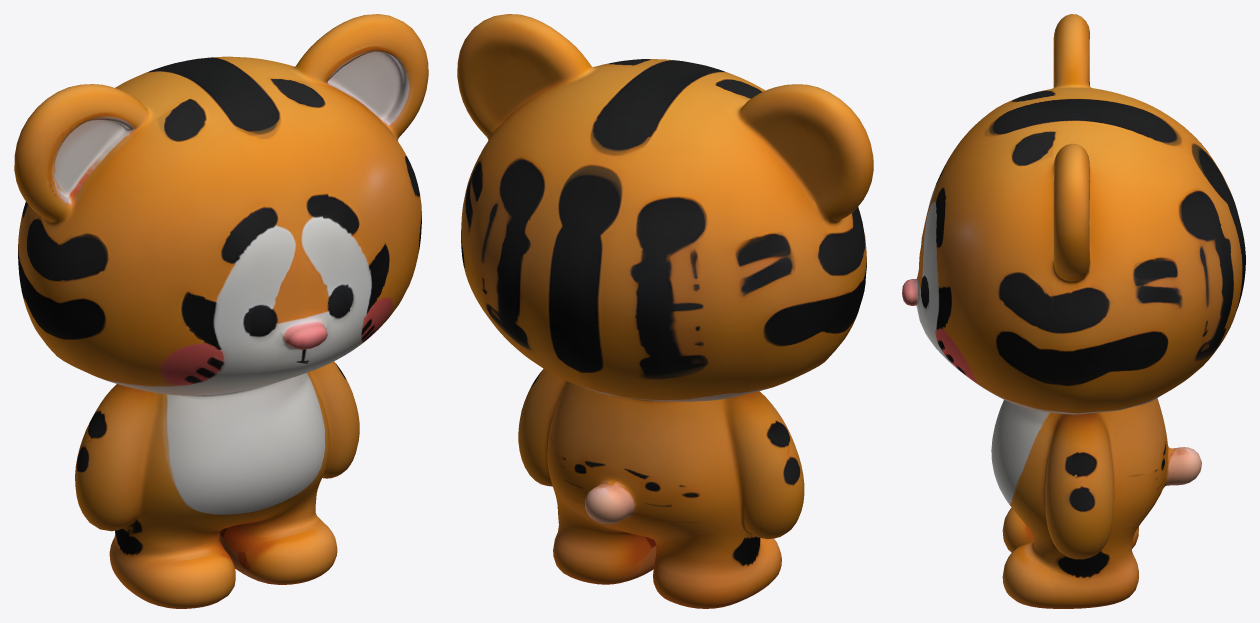
The model's file is chal_1.glb.
The picture shows the model from 3 angles, left to right: view 1: azimuth 30°, elevation 25°; view 2: azimuth 150°, elevation 25°; view 3: azimuth 270°, elevation 25°; orthographic projection. The views are drawn at different scales.
Visible parts, largest first — view 1: Object_2; view 2: Object_2; view 3: Object_2.
Boxes of the visible parts, left/top/right/bottom form: Object_2: left=14, top=14, right=428, bottom=608; Object_2: left=457, top=14, right=873, bottom=608; Object_2: left=902, top=14, right=1245, bottom=608.
Size of the model in its own units: 1.56 by 1.9 by 1.22.
1 material, 1 textured.
